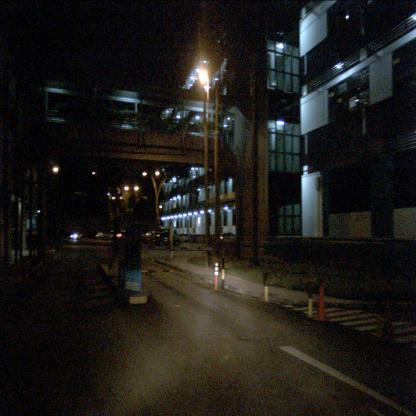movable_object-trafficcone: (313, 285, 329, 322), (211, 254, 221, 292)
vehicle-car: (146, 228, 181, 247), (96, 230, 113, 241), (70, 233, 84, 240)
